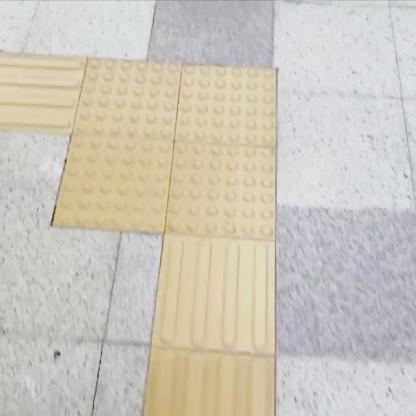podotacti: (34, 20, 303, 289), (141, 243, 279, 416)
